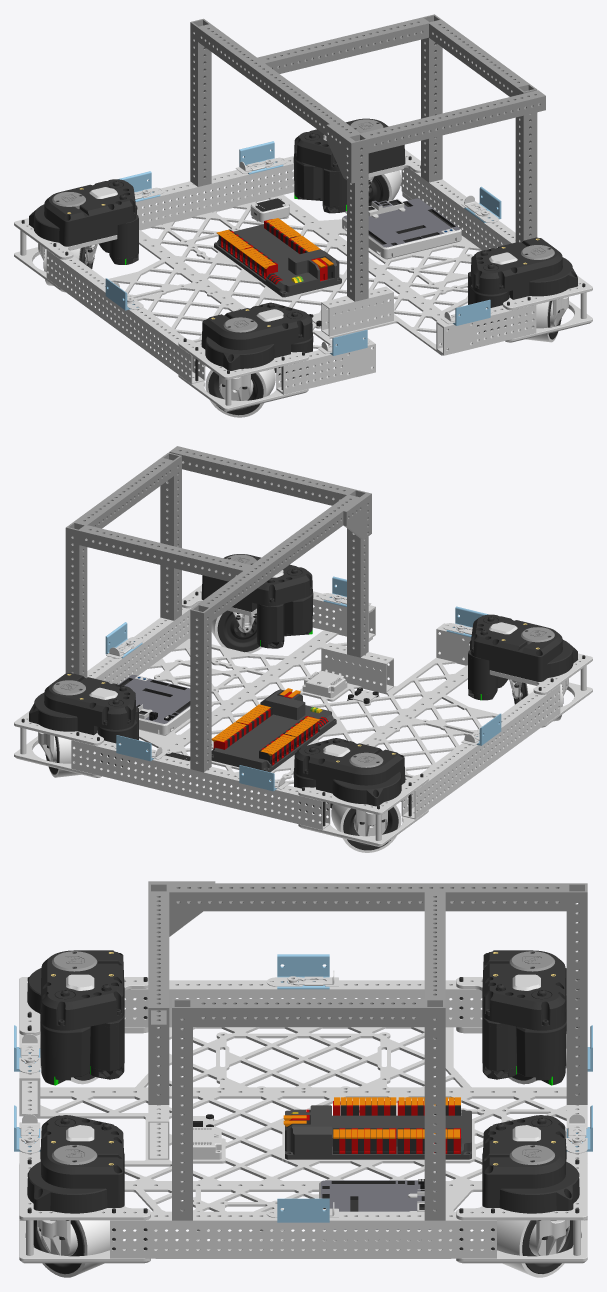
The picture shows the model from 3 angles, top to bottom: view 1: azimuth 30°, elevation 25°; view 2: azimuth 150°, elevation 25°; view 3: azimuth 270°, elevation 25°; orthographic projection. The views are drawn at different scales.
Visible parts, largest first — view 1: SDS MK5n Top Assembly (A) (×4), 0103 bellypan, 0100 mainFrame (×3), Tube 1"x1"x11.139" (×4), Simplified PDH, id183, Tube 1"x1"x13", Tube 1"x1"x18.875", Tube 1"x1"x12", 0103 shooterSideGap, 0102 intakeSideGap, SDS MK5 Molded Wheel (×3) (+9 smaller); view 2: SDS MK5n Top Assembly (A) (×4), 0100 mainFrame (×3), 0103 bellypan, Tube 1"x1"x11.139" (×4), Simplified PDH, Tube 1"x1"x18.875", Tube 1"x1"x13", Tube 1"x1"x12", SDS MK5 Molded Wheel (×3), id183, Tube 1"x1"x11", 0104 climbBlockerTube (+9 smaller); view 3: SDS MK5n Top Assembly (A) (×4), 0103 bellypan, 0100 mainFrame (×2), Tube 1"x1"x11.139" (×4), Tube 1"x1"x18.875", Simplified PDH, Tube 1"x1"x11", Kraken X60 Brushless Motor (×2), SDS MK5 Molded Wheel (×2), Kraken X44 Brushless Motor (×2), id183, Tube 1"x1"x13" (+9 smaller).
Boxes of the visible parts, bbox=[...] form: SDS MK5n Top Assembly (A) (×4): bbox=[14, 118, 592, 379]; 0103 bellypan: bbox=[108, 195, 481, 372]; 0100 mainFrame (×3): bbox=[46, 156, 515, 383]; Tube 1"x1"x11.139" (×4): bbox=[190, 14, 537, 301]; Simplified PDH: bbox=[214, 218, 341, 297]; id183: bbox=[342, 198, 461, 259]; Tube 1"x1"x13": bbox=[361, 90, 545, 153]; Tube 1"x1"x18.875": bbox=[198, 24, 360, 136]; Tube 1"x1"x12": bbox=[257, 17, 428, 73]; 0103 shooterSideGap: bbox=[436, 304, 536, 355]; 0102 intakeSideGap: bbox=[276, 338, 375, 394]; SDS MK5 Molded Wheel (×3): bbox=[205, 170, 561, 417]; SDS MK5n Top Assembly (A) (×4): bbox=[14, 554, 592, 814]; 0100 mainFrame (×3): bbox=[71, 603, 560, 829]; 0103 bellypan: bbox=[135, 630, 498, 807]; Tube 1"x1"x11.139" (×4): bbox=[65, 452, 368, 772]; Simplified PDH: bbox=[211, 688, 336, 772]; Tube 1"x1"x18.875": bbox=[198, 495, 360, 621]; Tube 1"x1"x13": bbox=[169, 446, 354, 505]; Tube 1"x1"x12": bbox=[79, 525, 250, 581]; SDS MK5 Molded Wheel (×3): bbox=[45, 610, 401, 852]; id183: bbox=[118, 675, 190, 735]; Tube 1"x1"x11": bbox=[74, 458, 173, 528]; 0104 climbBlockerTube: bbox=[321, 642, 393, 692]; SDS MK5n Top Assembly (A) (×4): bbox=[19, 950, 587, 1220]; 0103 bellypan: bbox=[36, 1027, 566, 1258]; 0100 mainFrame (×2): bbox=[110, 980, 496, 1258]; Tube 1"x1"x11.139" (×4): bbox=[148, 883, 587, 1220]; Tube 1"x1"x18.875": bbox=[169, 883, 566, 911]; Simplified PDH: bbox=[283, 1097, 471, 1159]; Tube 1"x1"x11": bbox=[193, 999, 424, 1026]; Kraken X60 Brushless Motor (×2): bbox=[40, 1021, 566, 1085]; SDS MK5 Molded Wheel (×2): bbox=[33, 1220, 573, 1277]; Kraken X44 Brushless Motor (×2): bbox=[89, 1014, 517, 1079]; id183: bbox=[319, 1179, 435, 1240]; Tube 1"x1"x13": bbox=[148, 892, 169, 1026].
Bounding box in the file's own units: 0.6985 × 0.378 × 0.6985.
